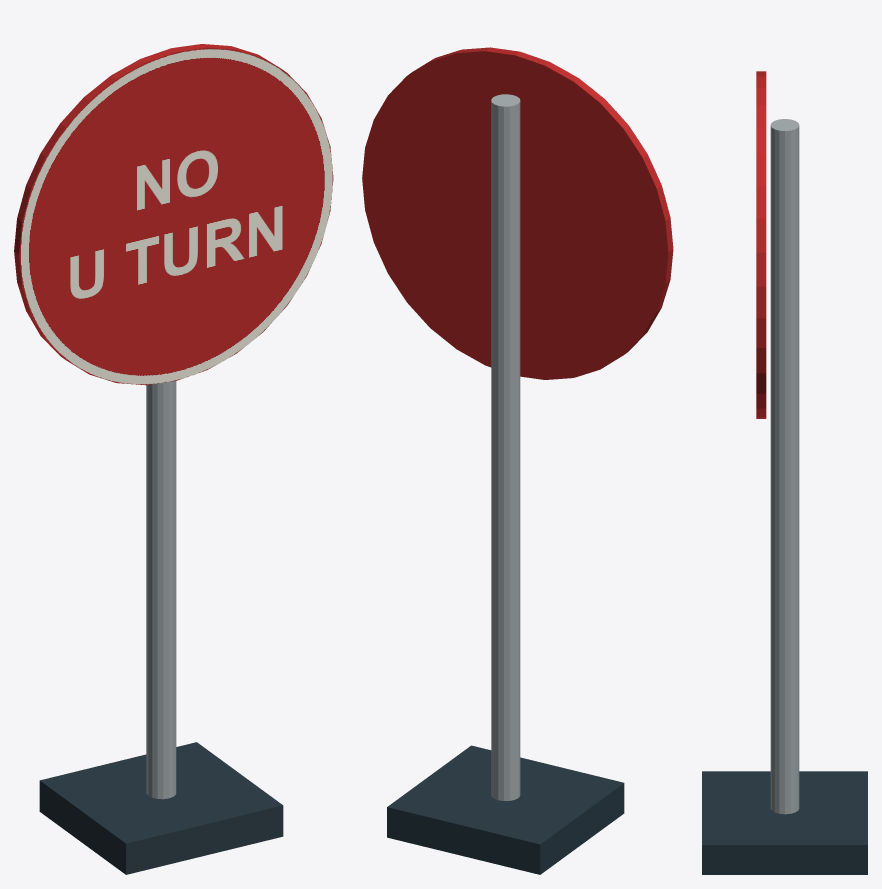
File: scendance-plan-no-u-turn.glb
3 views of the same model, side by side, from view 1: azimuth 30°, elevation 25°; view 2: azimuth 150°, elevation 25°; view 3: azimuth 270°, elevation 25° (orthographic). The views are drawn at different scales.
Bounding box in the file's own units: 0.84 × 2 × 0.4.
Materials: 4 (1 with a texture image).
